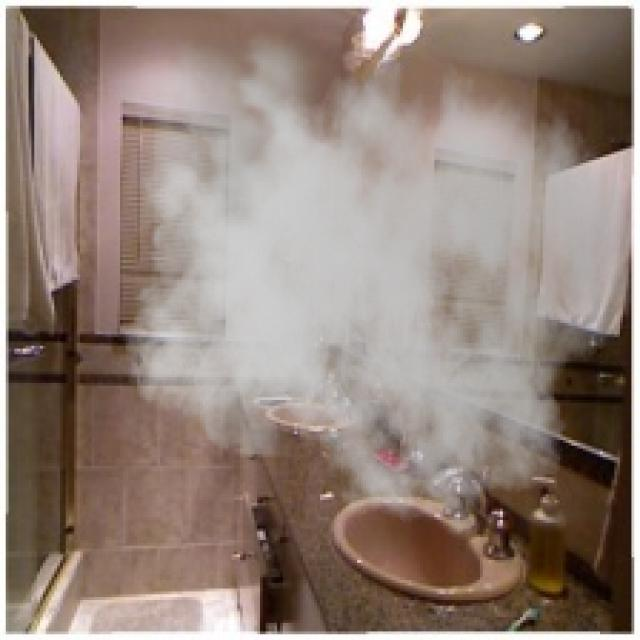smoke: (109, 6, 634, 537)
